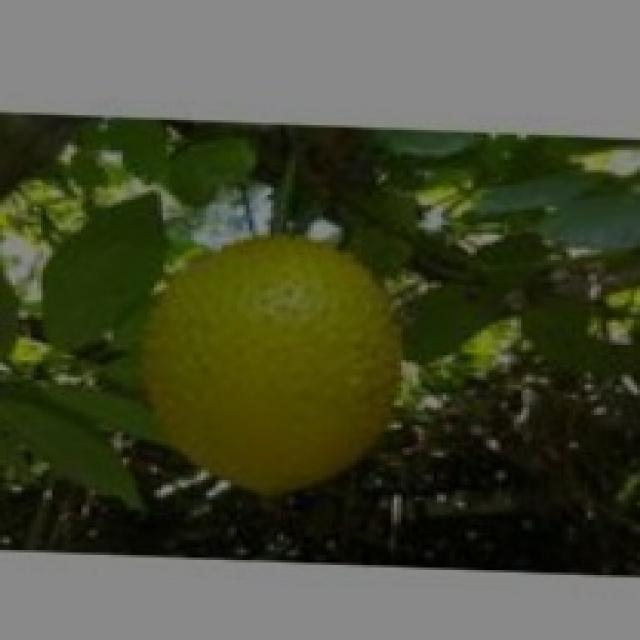Fruit: (98, 207, 434, 525)
